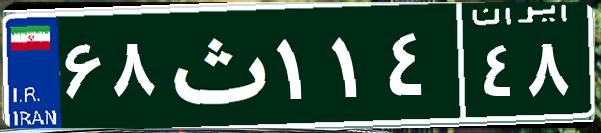1: (273, 28, 330, 110), (330, 28, 385, 110)
4: (385, 28, 445, 110), (475, 38, 525, 113)
6: (57, 26, 110, 107)
8: (110, 28, 158, 105), (525, 38, 570, 115)
ث: (158, 15, 273, 115)
